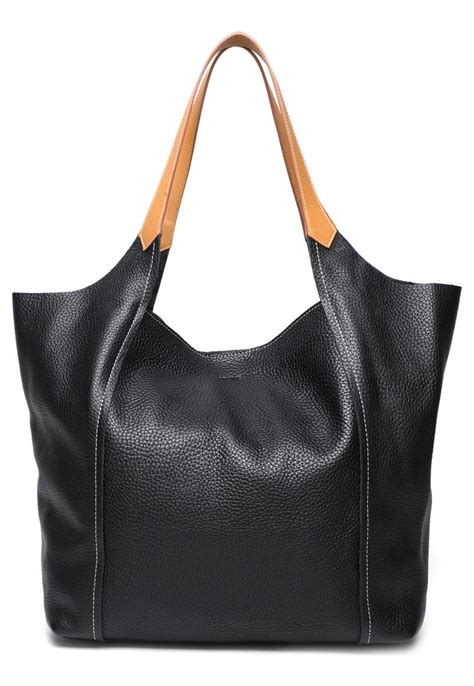cuero: (12, 33, 462, 647)
